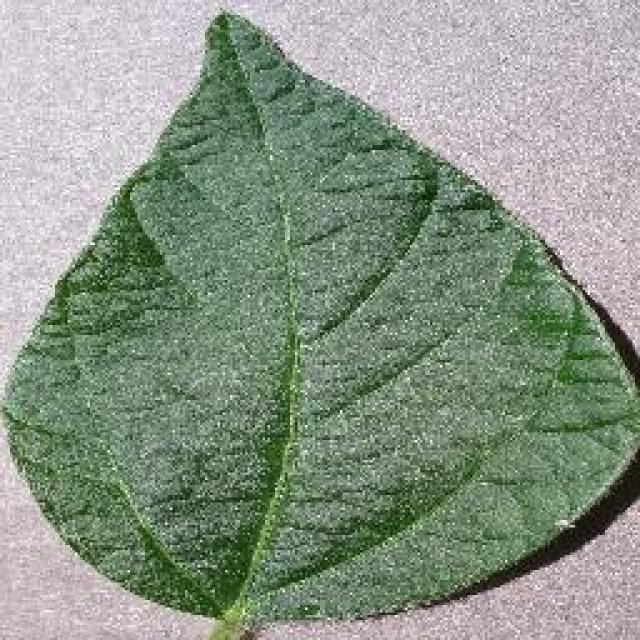Soy_healthy: (66, 81, 597, 575)
